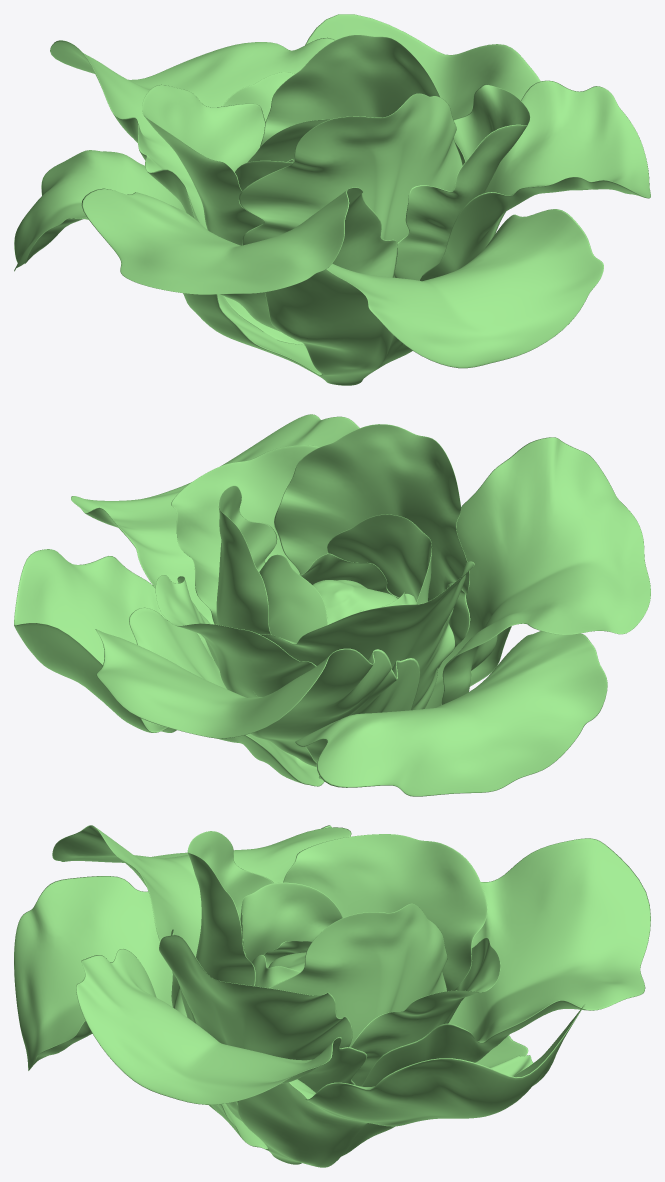
The model's file is lettuce.glb.
3 views of the same model, one above another, from view 1: azimuth 30°, elevation 25°; view 2: azimuth 150°, elevation 25°; view 3: azimuth 270°, elevation 25° (orthographic). The views are drawn at different scales.
Visible parts, largest first — view 1: 10187_LettuceBibb_v1-L2; view 2: 10187_LettuceBibb_v1-L2; view 3: 10187_LettuceBibb_v1-L2.
Part boxes in pixels (x1,y1,x2,y2): 10187_LettuceBibb_v1-L2: (14, 14, 650, 385); 10187_LettuceBibb_v1-L2: (14, 414, 650, 796); 10187_LettuceBibb_v1-L2: (14, 825, 650, 1167).
Size of the model in its own units: 0.6165 by 0.3327 by 0.6195.
